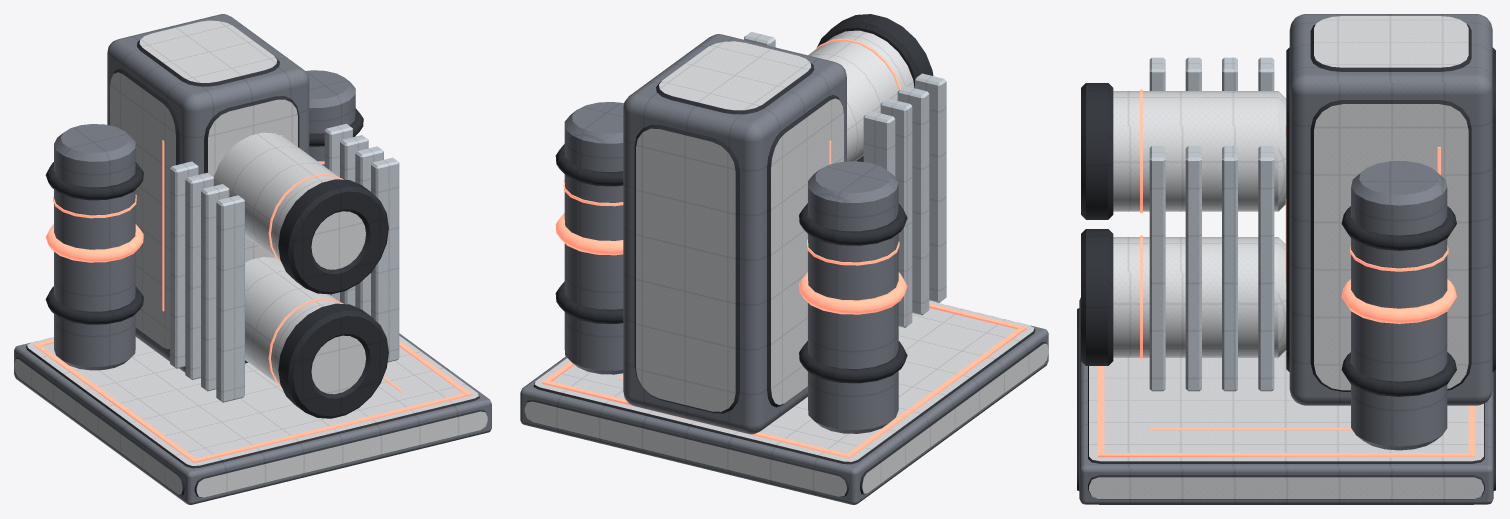
Rendered from R4X_DoubleShotOverdrive.glb.
3 views of the same model, side by side, from view 1: azimuth 30°, elevation 25°; view 2: azimuth 150°, elevation 25°; view 3: azimuth 270°, elevation 25° (orthographic). The views are drawn at different scales.
Visible parts, largest first — view 1: R4X_DoubleShotOverdrive_Body; view 2: R4X_DoubleShotOverdrive_Body; view 3: R4X_DoubleShotOverdrive_Body.
Part boxes in pixels (x1,y1,x2,y2): R4X_DoubleShotOverdrive_Body: (14,14,491,504); R4X_DoubleShotOverdrive_Body: (520,14,1048,504); R4X_DoubleShotOverdrive_Body: (1077,14,1495,504).
Bounding box in the file's own units: 0.52 × 0.52 × 0.52.
5 materials, 4 textured.
